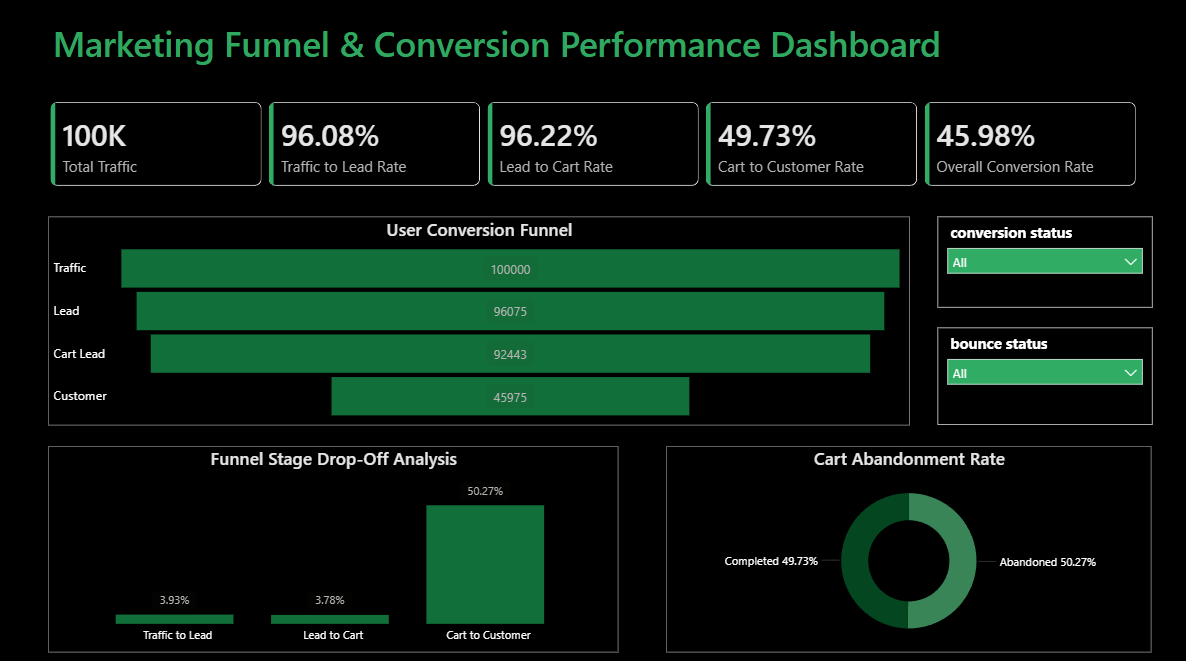

This screenshot's page, from the dashboard's own definition file:
{"tool":"powerbi","page":{"name":"Page 1","canvas":[1280,720],"ordinal":0},"visuals":[{"type":"funnel","title":"User Conversion Funnel","fields":{"Category":["funnel_table.Stage"],"Y":["Sum(funnel_table.Users)"]},"box":[55.6,233.3,926.7,224.4],"z":0},{"type":"donutChart","title":"Cart Abandonment Rate","fields":{"Category":["cart_status.Status "],"Y":["Sum(cart_status.Value)"]},"box":[720,480,522.2,222.2],"z":1000},{"type":"cardVisual","fields":{"Data":["cleaned_dataset.Total Traffic","cleaned_dataset.Traffic to Lead Rate","cleaned_dataset.Lead to Cart Rate","cleaned_dataset.Cart to Customer Rate","cleaned_dataset.Overall Conversion Rate"]},"box":[40,93.3,1202.2,124.4],"z":2000},{"type":"textbox","title":"Marketing Funnel & Conversion Performance Dashboard","box":[55.6,22.2,1168.9,55.6],"z":4000},{"type":"slicer","fields":{"Values":["cleaned_dataset.bounce_flag"]},"box":[1011.1,353.3,231.1,104.4],"z":4001},{"type":"slicer","fields":{"Values":["cleaned_dataset.converted"]},"box":[1011.1,233.3,231.1,97.8],"z":4002},{"type":"clusteredColumnChart","title":"Funnel Stage Drop-Off Analysis","fields":{"Y":["Sum(Table.drop off rate)"],"Category":["Table.stage"]},"box":[55.6,480,613.3,222.2],"z":4003}]}

Visuals, with their boxes in screenshot pixels (x1, y1, x2, y2), scaled from the page's 1280x720 canvas onto the 1186x661 screenshot:
"User Conversion Funnel" funnel: [x1=52, y1=214, x2=910, y2=420]
"Cart Abandonment Rate" donutChart: [x1=667, y1=441, x2=1151, y2=645]
cardVisual - cleaned_dataset.Total Traffic x cleaned_dataset.Traffic to Lead Rate: [x1=37, y1=86, x2=1151, y2=200]
"Marketing Funnel & Conversion Performance Dashboard" textbox: [x1=52, y1=20, x2=1135, y2=71]
slicer - cleaned_dataset.bounce_flag: [x1=937, y1=324, x2=1151, y2=420]
slicer - cleaned_dataset.converted: [x1=937, y1=214, x2=1151, y2=304]
"Funnel Stage Drop-Off Analysis" clusteredColumnChart: [x1=52, y1=441, x2=620, y2=645]
